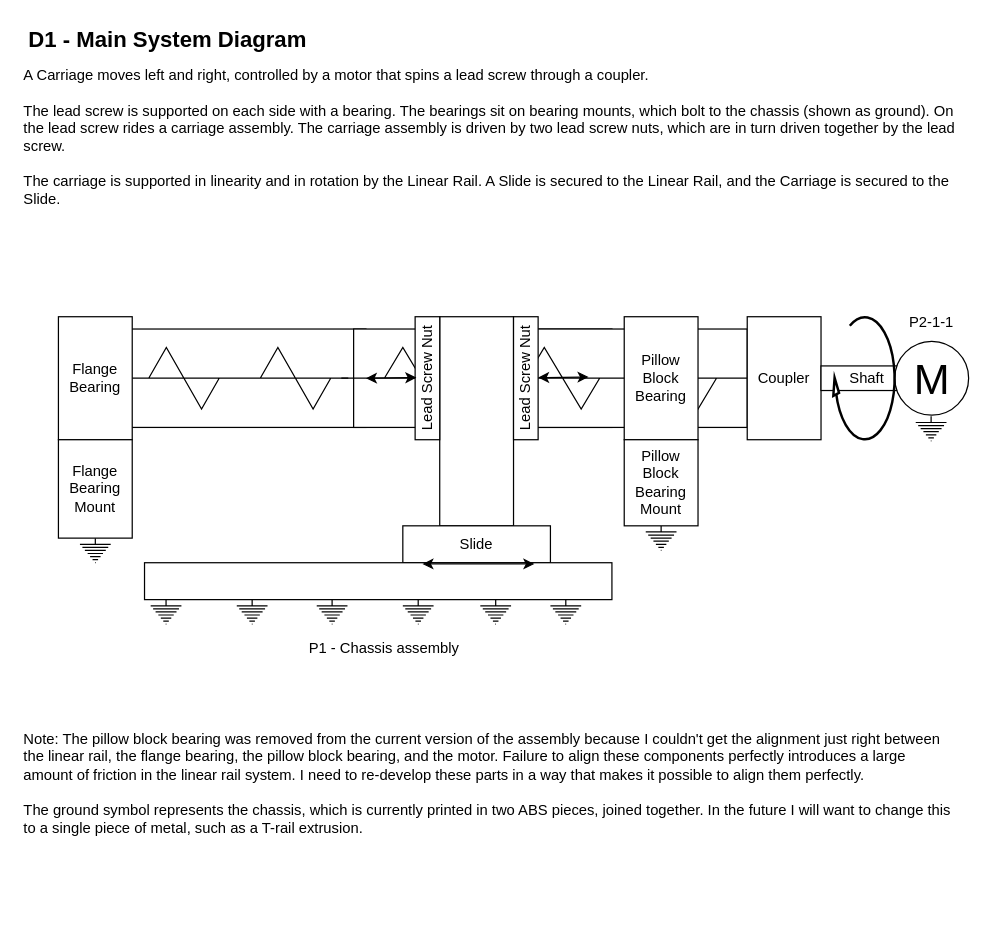
Some shapes in this 990 by 940 pixel diagram are drawn without their labels. Each missing label, with the centre of its shape:
Carriage: (x=476, y=420)
Lead Screw: (x=236, y=377)
Linear Rail: (x=377, y=580)
